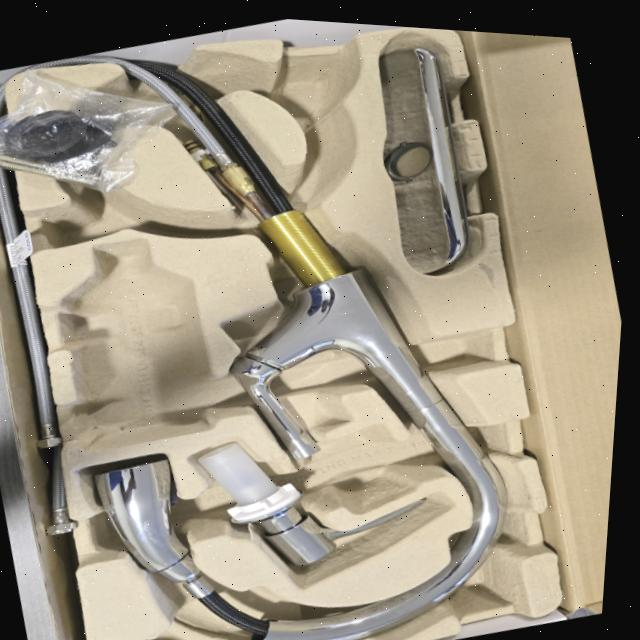1: (94, 56, 507, 640)
2: (196, 442, 425, 569)
3m: (62, 236, 211, 451)
4: (379, 46, 467, 274)
5m: (274, 58, 347, 119)
6m: (38, 175, 182, 248)
7: (0, 65, 183, 184)
